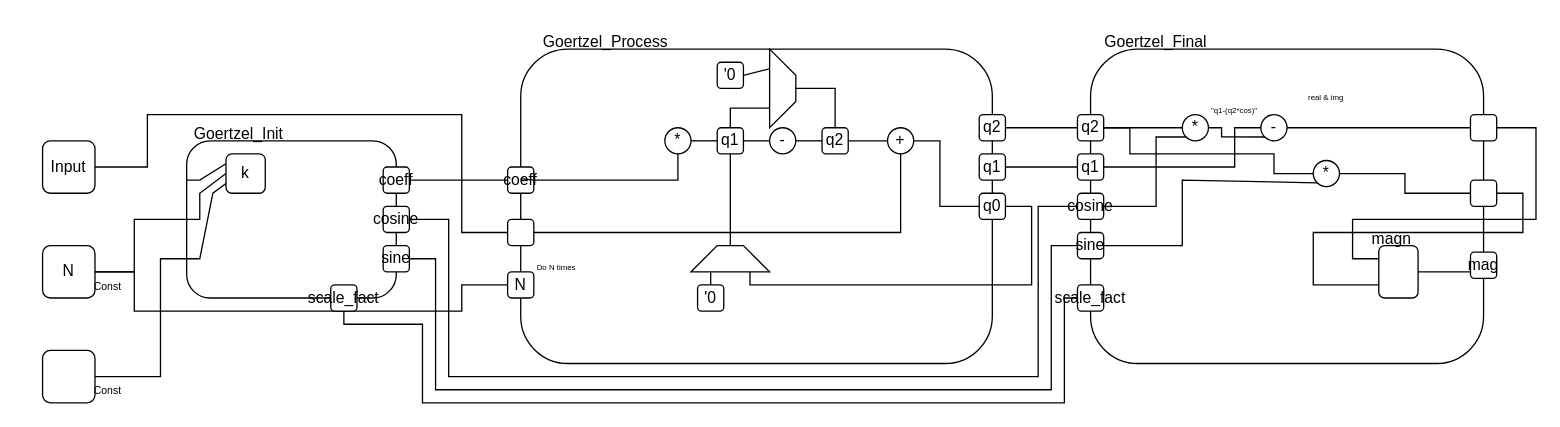
Some shapes in this 1560 by 427 pixel diagram are drawn without their labels. The shapes that lost their labels are listed below. From the top down, each one's centre as x and y in pixels, then its label:
At point (1483, 127): "real".
At point (1483, 192): "img".
At point (520, 232): "sample".
At point (68, 376): "Freq_sample".
